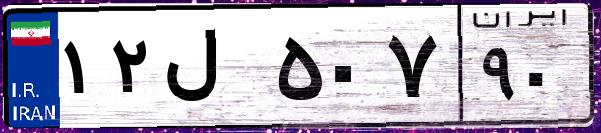0: (330, 28, 385, 110), (525, 38, 570, 115)
1: (57, 26, 110, 100)
2: (110, 28, 158, 98)
5: (270, 28, 330, 110)
7: (385, 28, 445, 110)
9: (475, 38, 525, 113)
ل: (158, 20, 270, 120)
